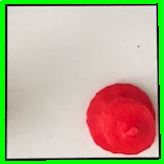Red King: (82, 80, 160, 155)
